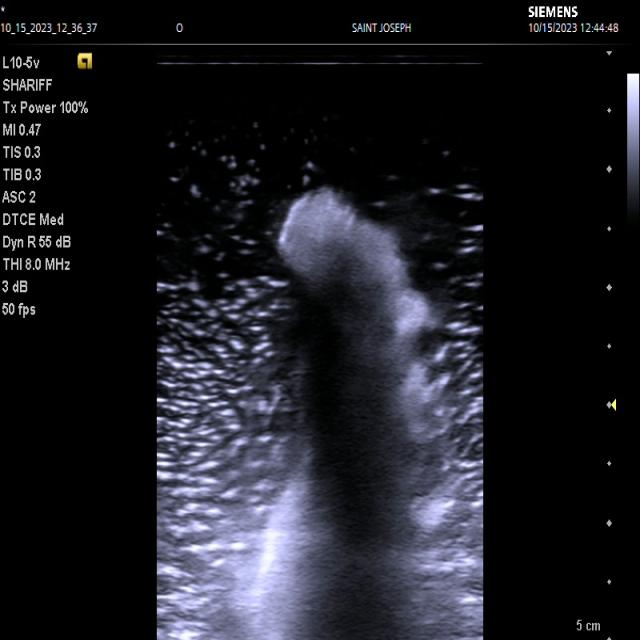tissue: (242, 187, 428, 640)
